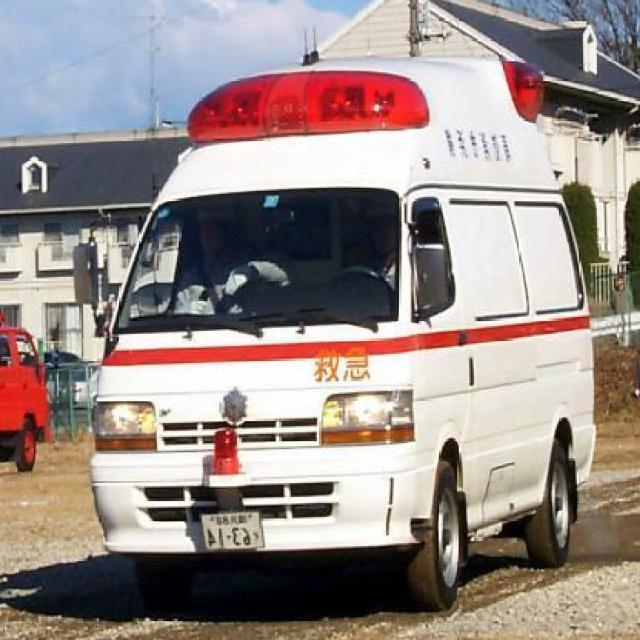emergency: (86, 29, 598, 610)
